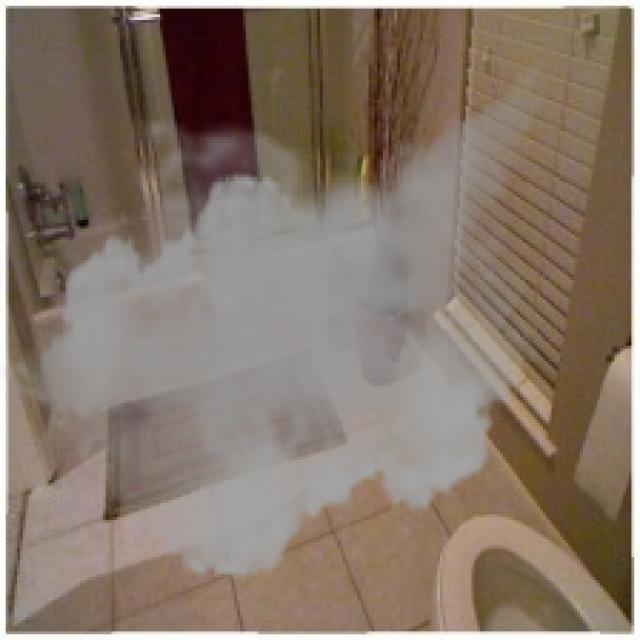Smoke: (0, 28, 557, 594)
